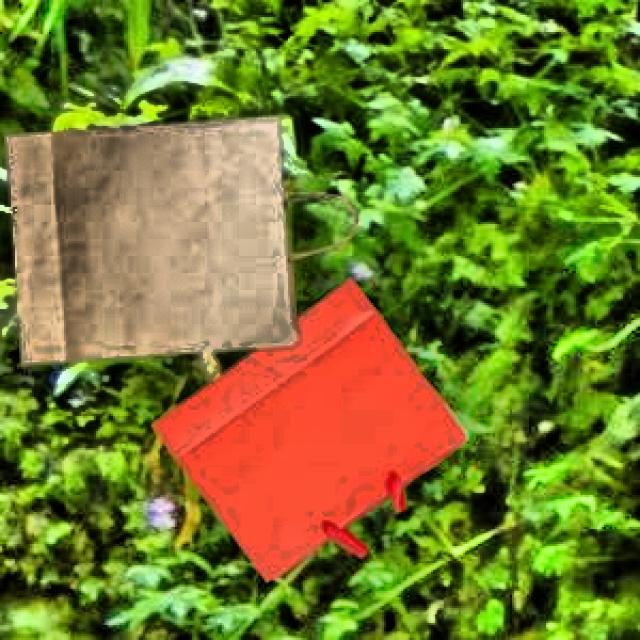Paper-bag: (153, 277, 486, 594), (0, 111, 318, 365)
